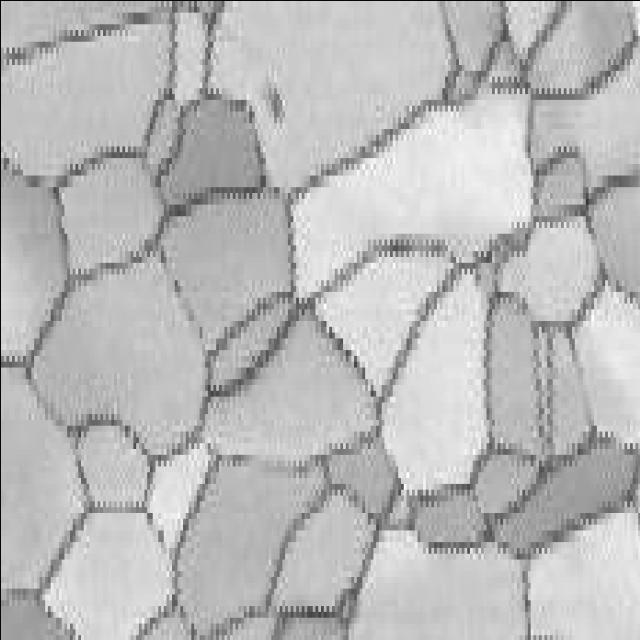good_void: (264, 85, 285, 127)
